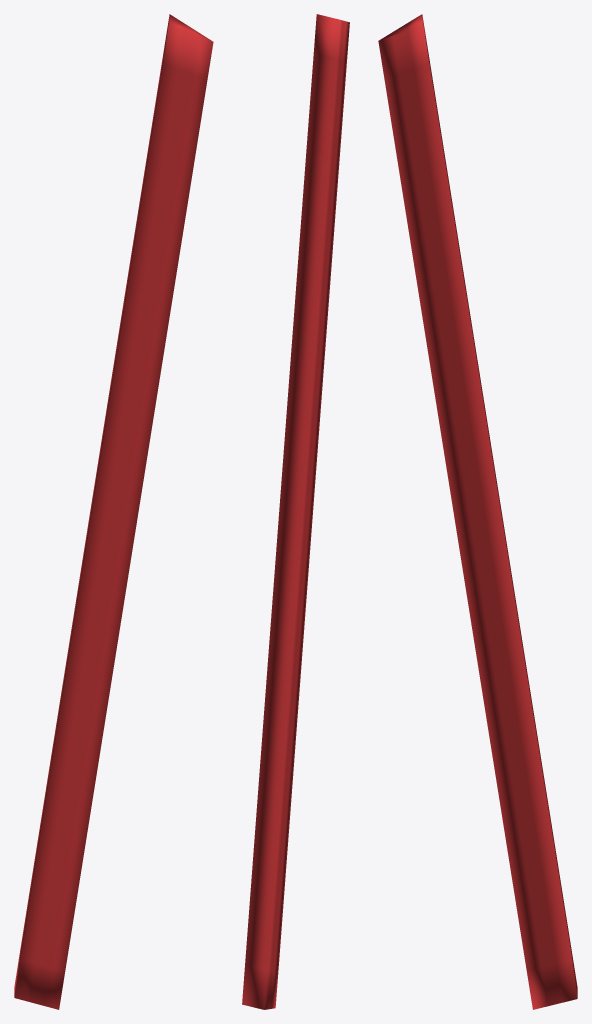
The model's file is blade.fbx.
3 renders of one model, left to right at view 1: azimuth 90°, elevation 25°; view 2: azimuth 150°, elevation 25°; view 3: azimuth 270°, elevation 25°, orthographic. The views are drawn at different scales.
Parts seen in each view (by area): view 1: Cube.001; view 2: Cube.001; view 3: Cube.001.
Boxes of the visible parts, left/top/right/bottom form: Cube.001: left=14, top=14, right=213, bottom=1009; Cube.001: left=242, top=14, right=349, bottom=1009; Cube.001: left=378, top=14, right=577, bottom=1009.
Bounding box in the file's own units: 1.19 × 48.51 × 8.84.
